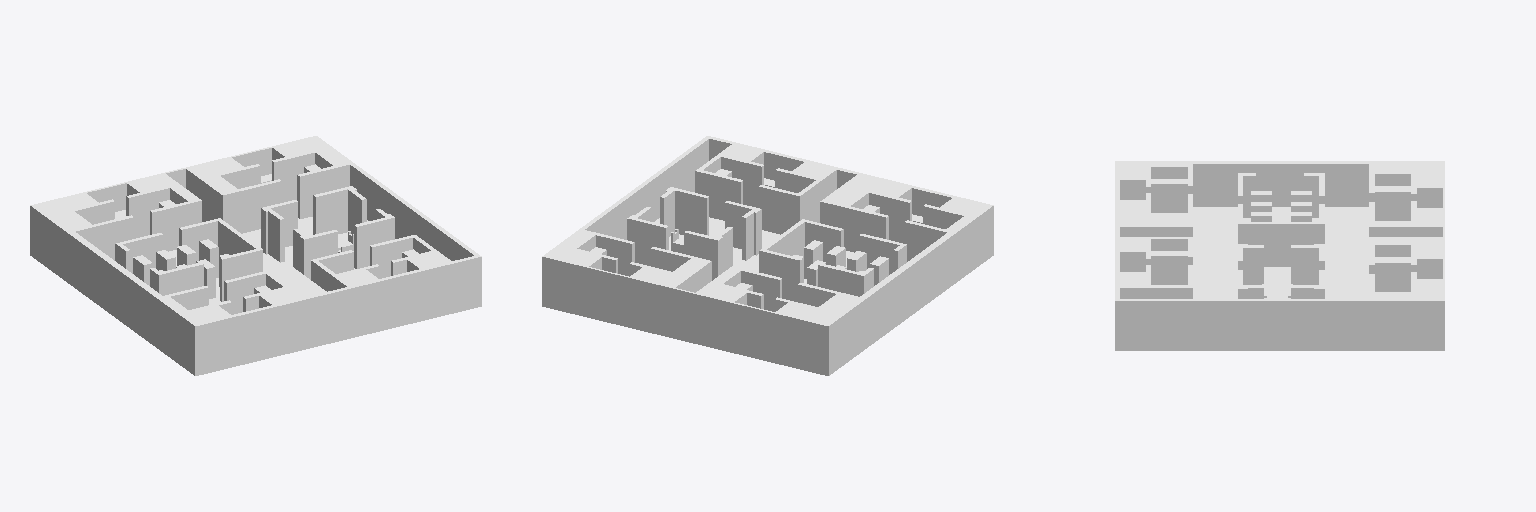
The model's file is fase2.obj.
3 renders of one model, left to right at view 1: azimuth 30°, elevation 25°; view 2: azimuth 150°, elevation 25°; view 3: azimuth 270°, elevation 25°, orthographic.
Size of the model in its own units: 126 by 21 by 126.